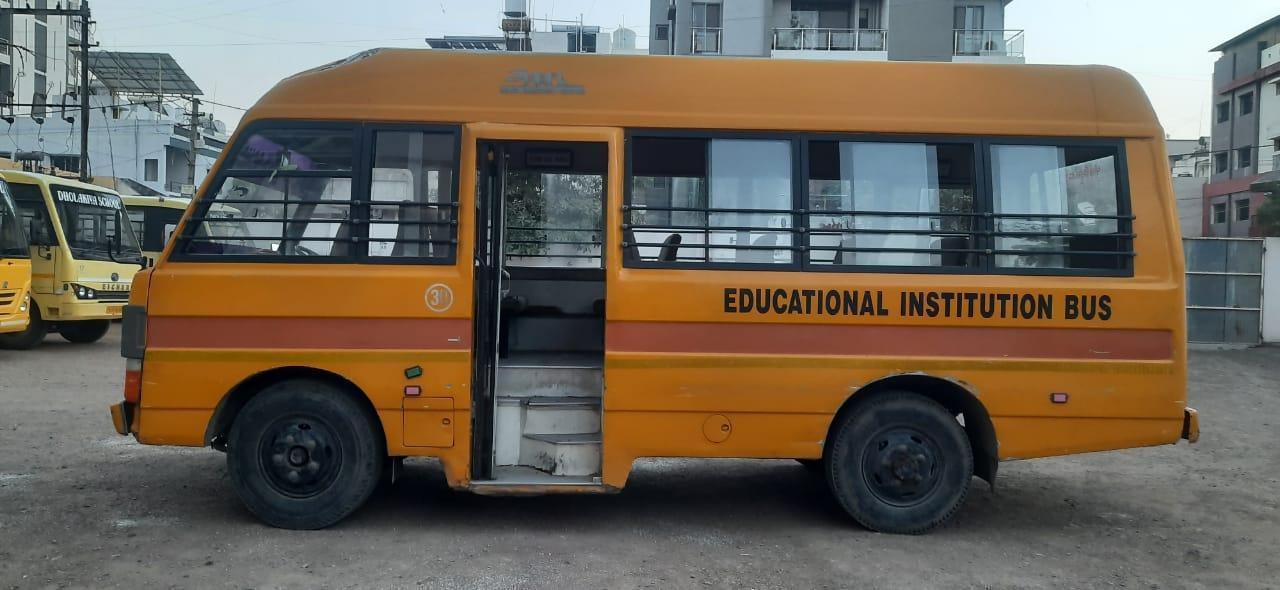Bus: (113, 29, 1224, 562)
